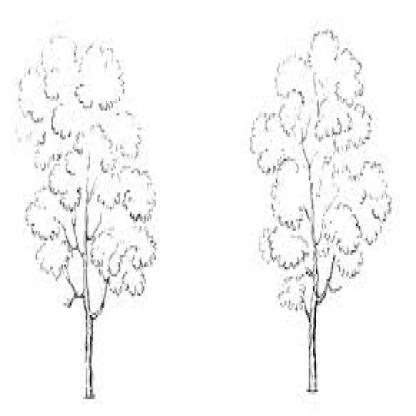trunk_straight: (84, 320, 95, 390), (306, 328, 318, 382)
